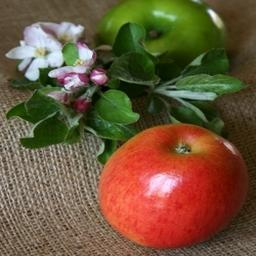apple: (97, 122, 249, 252), (95, 1, 230, 75)
